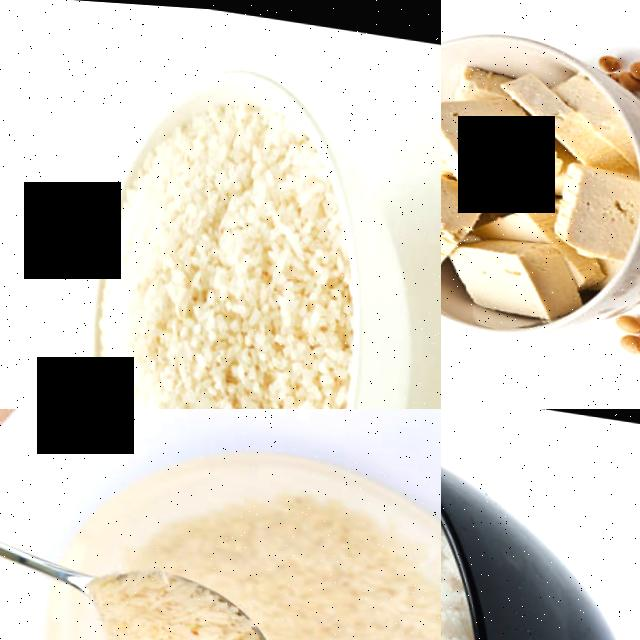tofu: (441, 82, 565, 194), (441, 227, 575, 317), (546, 155, 640, 257), (441, 169, 476, 272)
white rice: (73, 86, 365, 409), (90, 567, 277, 640)
